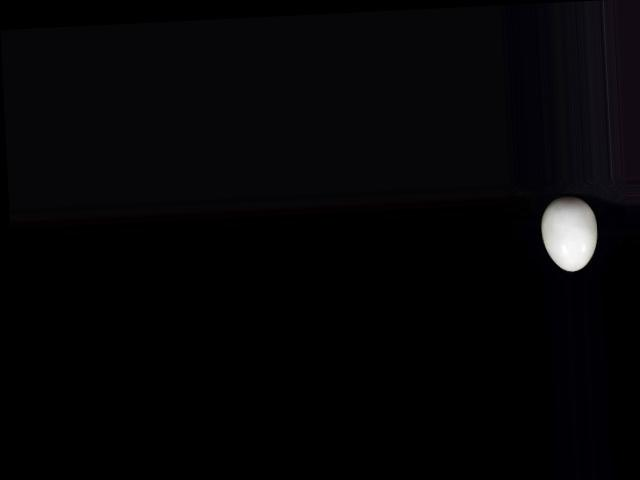egg: (541, 193, 599, 272)
